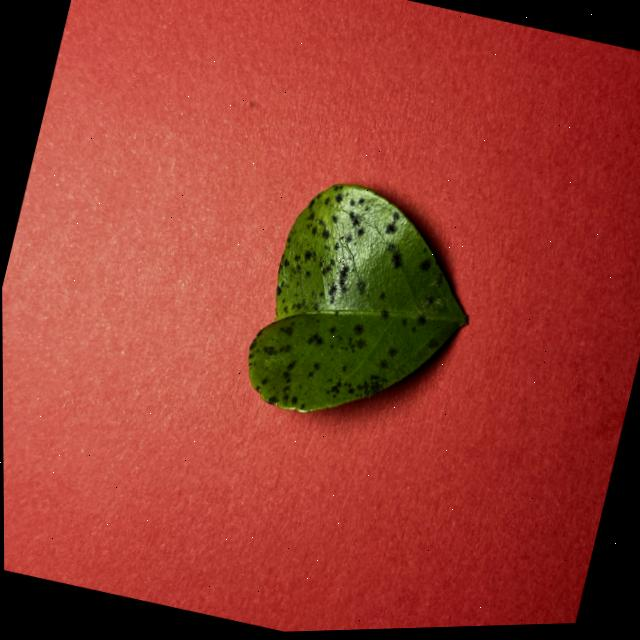sooty_mold: (247, 184, 465, 412)
